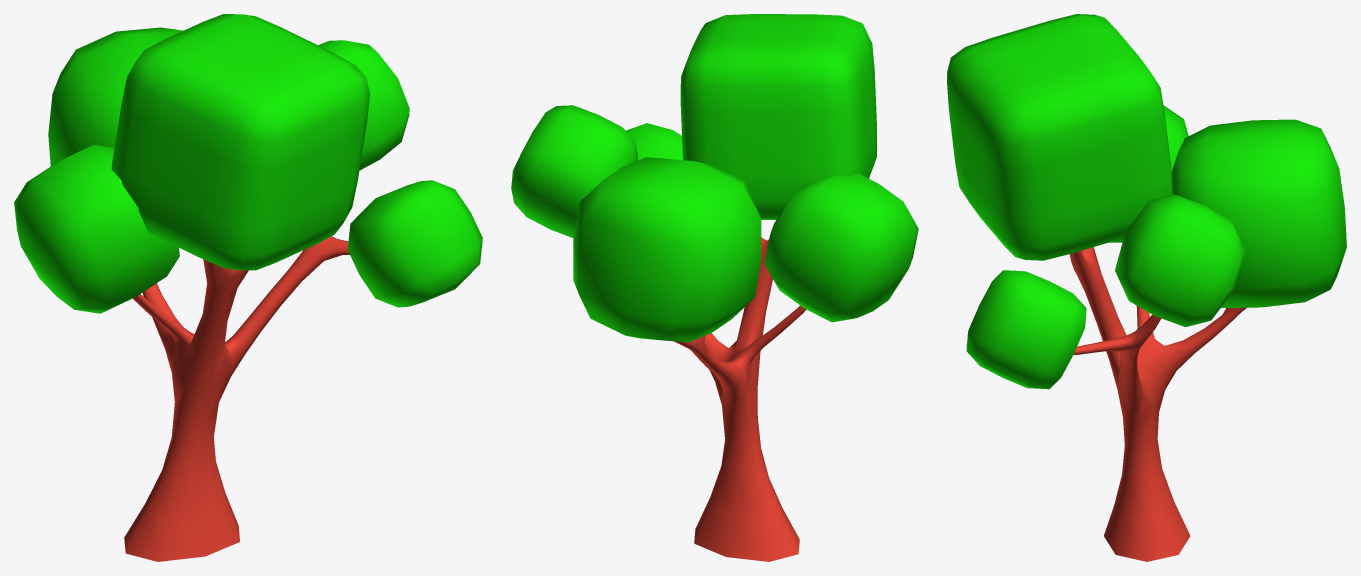
The model's file is treecube_3.fbx.
The picture shows the model from 3 angles, left to right: view 1: azimuth 30°, elevation 25°; view 2: azimuth 150°, elevation 25°; view 3: azimuth 270°, elevation 25°; orthographic projection. The views are drawn at different scales.
Visible parts, largest first — view 1: Cube.007, Cube.001, Cube.008, Cube.010, Cube.011, Cube.009; view 2: Cube.007, Cube.011, Cube.008, Cube.001, Cube.009, Cube.010; view 3: Cube.007, Cube.011, Cube.001, Cube.009, Cube.010, Cube.008.
Part boxes in pixels (<box>): Cube.007: <box>111,14,370,270</box>; Cube.001: <box>124,236,349,561</box>; Cube.008: <box>14,145,179,313</box>; Cube.010: <box>347,180,482,307</box>; Cube.011: <box>48,27,182,166</box>; Cube.009: <box>318,40,409,170</box>; Cube.007: <box>680,14,876,219</box>; Cube.011: <box>573,157,761,342</box>; Cube.008: <box>764,173,918,322</box>; Cube.001: <box>674,237,806,561</box>; Cube.009: <box>511,105,637,238</box>; Cube.010: <box>626,123,682,160</box>; Cube.007: <box>947,14,1172,260</box>; Cube.011: <box>1171,119,1346,308</box>; Cube.001: <box>1069,247,1246,561</box>; Cube.009: <box>1115,194,1244,327</box>; Cube.010: <box>966,270,1086,389</box>; Cube.008: <box>1109,105,1188,242</box>.
Bounding box in the file's own units: 637 × 831 × 607.
